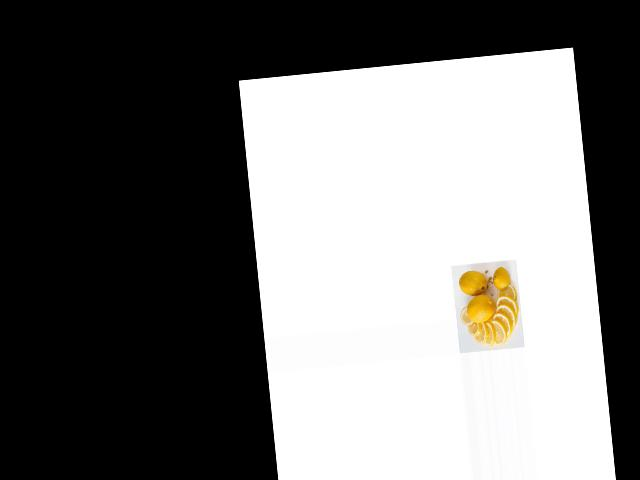lemon: (489, 267, 510, 289)
